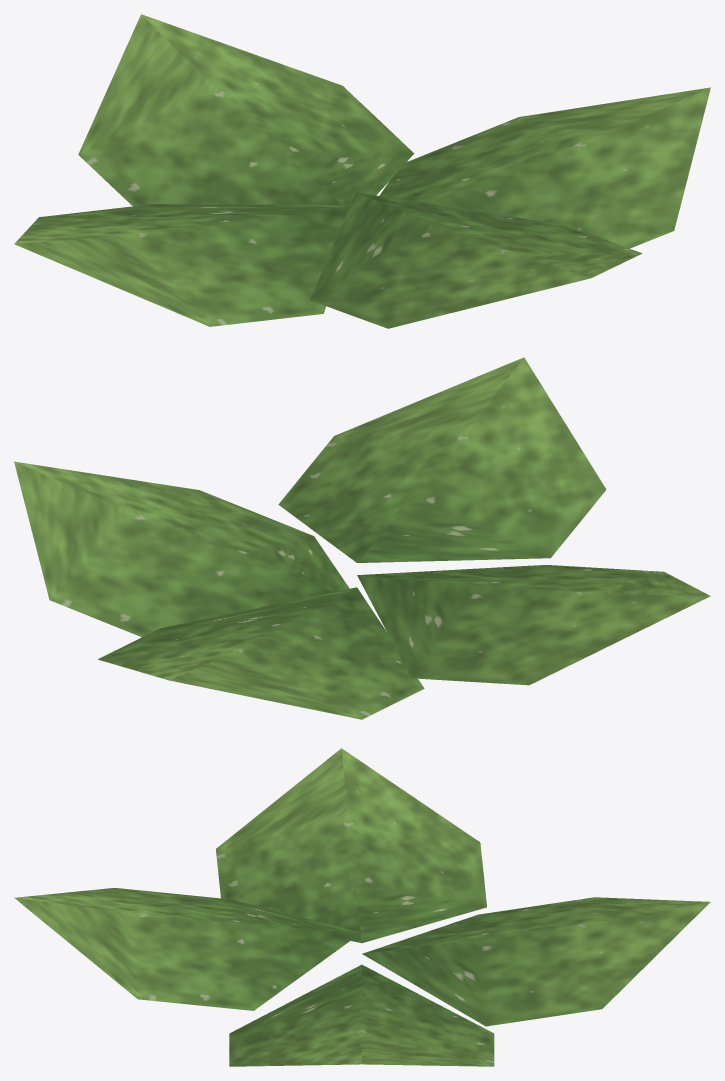
The model's file is lungwortitem.glb.
3 views of the same model, one above another, from view 1: azimuth 30°, elevation 25°; view 2: azimuth 150°, elevation 25°; view 3: azimuth 270°, elevation 25° (orthographic). The views are drawn at different scales.
Parts seen in each view (by area): view 1: lungwortitem; view 2: lungwortitem; view 3: lungwortitem.
Part boxes in pixels (x1,y1,x2,y2): lungwortitem: (14,14,710,328); lungwortitem: (14,357,710,719); lungwortitem: (14,748,710,1066).
Bounding box in the file's own units: 0.1187 × 0.0184 × 0.1186.
1 material, 1 textured.
